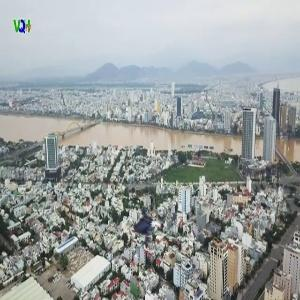drone: (125, 205, 175, 255)
